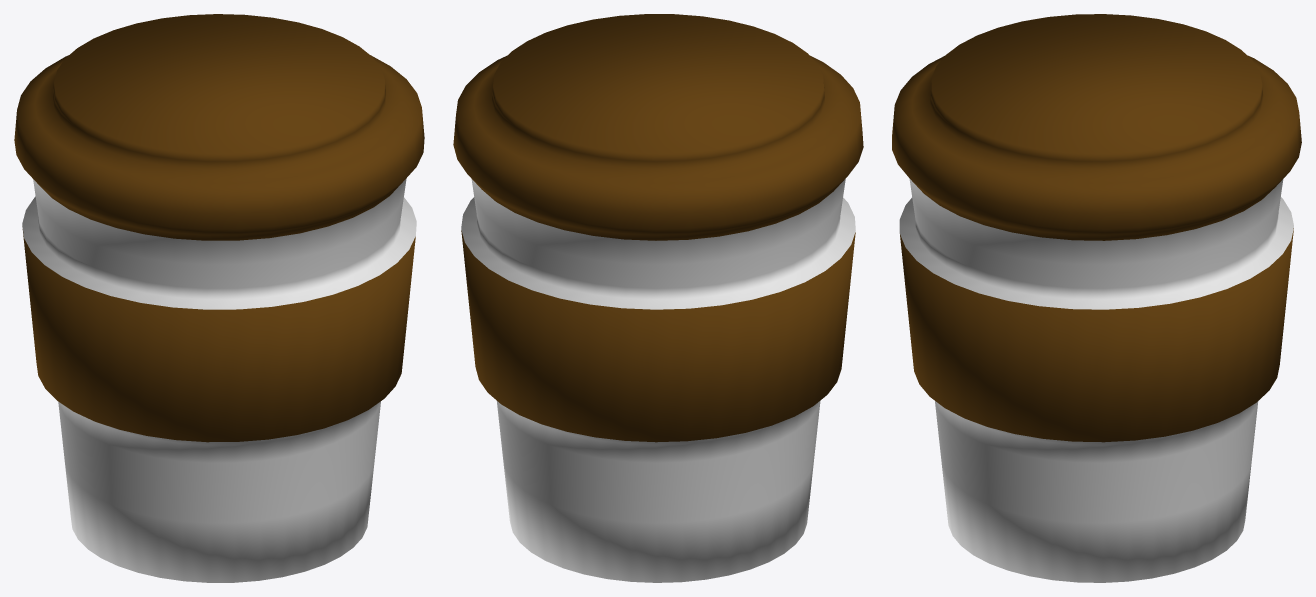
The model's file is coffeecup.glb.
3 views of the same model, side by side, from view 1: azimuth 30°, elevation 25°; view 2: azimuth 150°, elevation 25°; view 3: azimuth 270°, elevation 25° (orthographic).
Parts seen in each view (by area): view 1: Cylinder; view 2: Cylinder; view 3: Cylinder.
Boxes of the visible parts, x1,y1,x2,y2 form: Cylinder: (14,14,424,582); Cylinder: (453,14,863,582); Cylinder: (892,14,1301,582).
Bounding box in the file's own units: 1.01 × 1.19 × 1.01.
